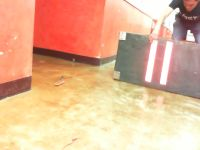switch: (159, 41, 173, 85), (145, 40, 158, 82)
